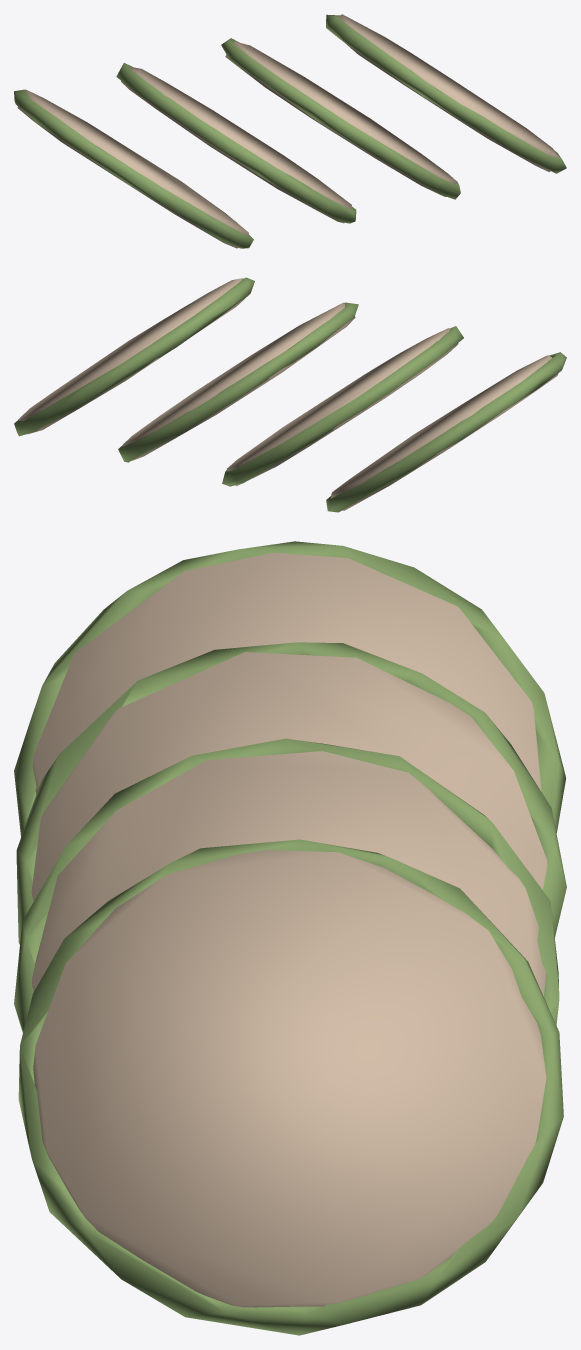
Rendered from cha_khoanh.glb.
The picture shows the model from 3 angles, top to bottom: view 1: azimuth 30°, elevation 25°; view 2: azimuth 150°, elevation 25°; view 3: azimuth 270°, elevation 25°; orthographic projection. The views are drawn at different scales.
Visible parts, largest first — view 1: cha_khoanh; view 2: cha_khoanh; view 3: cha_khoanh.
Boxes of the visible parts, left/top/right/bottom form: cha_khoanh: left=14, top=14, right=566, bottom=248; cha_khoanh: left=14, top=277, right=566, bottom=512; cha_khoanh: left=14, top=541, right=566, bottom=1335.
Bounding box in the file's own units: 0.2188 × 0.0693 × 0.1067.
